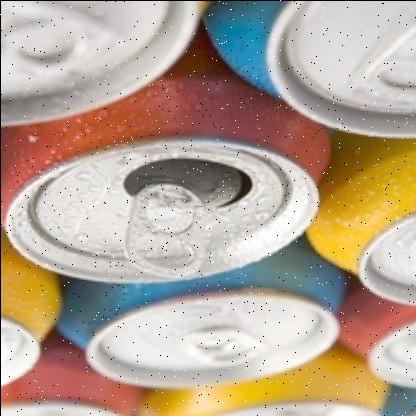Can: (0, 21, 334, 282), (55, 235, 346, 389), (200, 0, 416, 144), (0, 0, 209, 128), (304, 126, 416, 307), (332, 274, 416, 392), (0, 226, 60, 386)
